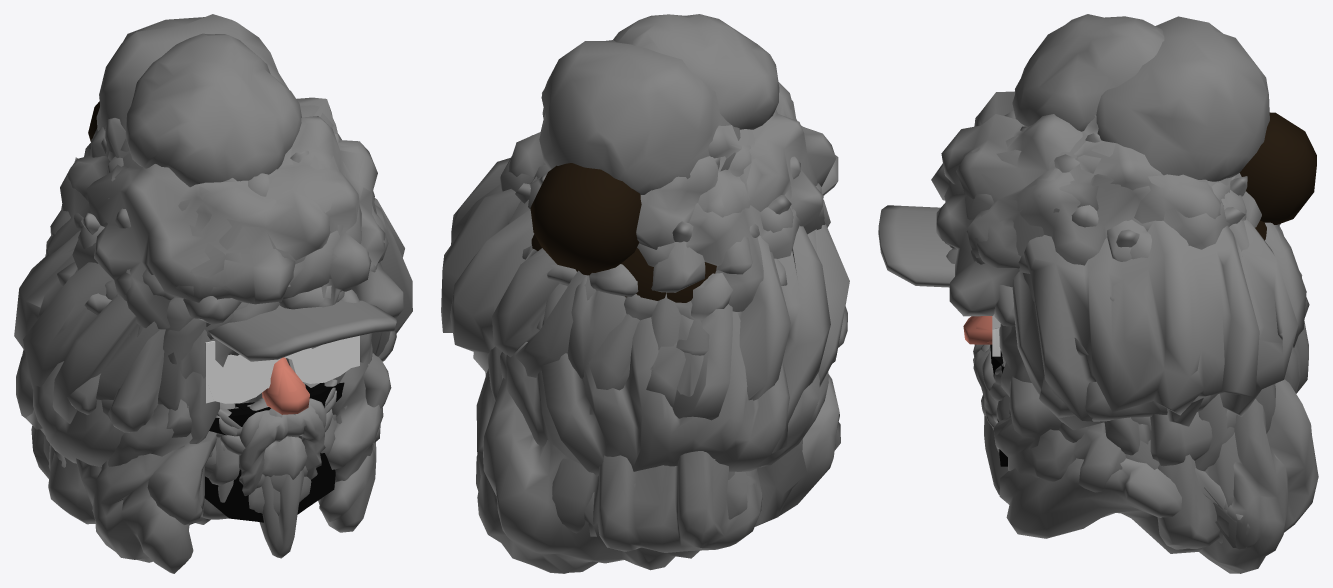
File: face_and_hair.fbx
3 views of the same model, side by side, from view 1: azimuth 30°, elevation 25°; view 2: azimuth 150°, elevation 25°; view 3: azimuth 270°, elevation 25° (orthographic).
Visible parts, largest first — view 1: hair_base3_2, hair_base3_13, hair_base3, hair_base3_19, hair_base3_18, hair_base3_1, Cap, hair_base3_12, hair_base3_10, hair_base3_11, Mustach_base8, Glasses_009 (+22 smaller); view 2: hair_base3, hair_base3_11, hair_base3_19, hair_base3_12, hair_base3_8, hair_base3_2, hair_base3_13, hair_knut, hair_base3_1, hair_base3_23, hair_base3_10, hair_base3_16 (+3 smaller); view 3: hair_base3, hair_base3_19, hair_base3_2, hair_base3_12, hair_base3_1, hair_base3_13, hair_base3_18, hair_knut, Cap, hair_base3_8, hair_base3_9, hair_base3_11 (+10 smaller).
Boxes of the visible parts, box(x1,y1,x2,y2) form: hair_base3_2: box(67, 97, 403, 318); hair_base3_13: box(125, 33, 301, 187); hair_base3: box(14, 133, 412, 429); hair_base3_19: box(48, 318, 376, 573); hair_base3_18: box(108, 297, 383, 524); hair_base3_1: box(45, 105, 388, 329); Cap: box(208, 300, 396, 361); hair_base3_12: box(96, 14, 288, 161); hair_base3_10: box(67, 325, 396, 437); hair_base3_11: box(16, 349, 124, 466); Mustach_base8: box(239, 398, 325, 495); Glasses_009: box(214, 337, 351, 396); hair_base3: box(441, 157, 849, 453); hair_base3_11: box(485, 283, 828, 476); hair_base3_19: box(476, 368, 840, 573); hair_base3_12: box(539, 40, 740, 194); hair_base3_8: box(552, 338, 762, 552); hair_base3_2: box(508, 82, 836, 234); hair_base3_13: box(613, 14, 779, 129); hair_knut: box(530, 163, 641, 272); hair_base3_1: box(499, 93, 830, 320); hair_base3_23: box(508, 176, 821, 296); hair_base3_10: box(537, 276, 847, 378); hair_base3_16: box(528, 144, 751, 249); hair_base3: box(1012, 154, 1309, 430); hair_base3_19: box(999, 355, 1318, 573); hair_base3_2: box(931, 91, 1241, 316); hair_base3_12: box(1096, 16, 1269, 181); hair_base3_1: box(963, 109, 1261, 301); hair_base3_13: box(1012, 14, 1164, 131); hair_base3_18: box(993, 324, 1151, 492); hair_knut: box(1239, 112, 1316, 224); Cap: box(878, 205, 954, 287); hair_base3_8: box(1157, 432, 1239, 549); hair_base3_9: box(1059, 409, 1236, 466); hair_base3_11: box(1125, 321, 1308, 471).
Bounding box in the file's own units: 50.64 × 53.54 × 69.96.
